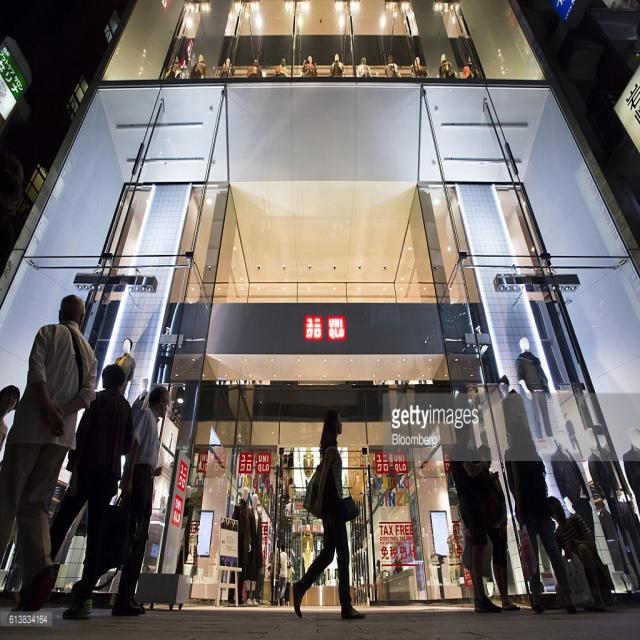body: (0, 293, 99, 622), (49, 361, 135, 623), (291, 404, 367, 621), (107, 384, 171, 618), (504, 415, 577, 615), (447, 418, 506, 614), (162, 49, 486, 82), (555, 409, 640, 510), (544, 495, 616, 613), (478, 443, 523, 612), (494, 334, 556, 441), (95, 330, 153, 420), (232, 487, 266, 607), (0, 382, 21, 454), (369, 375, 435, 388), (278, 543, 288, 607), (214, 377, 267, 389), (354, 572, 368, 604), (283, 560, 292, 608), (375, 558, 384, 602), (394, 560, 404, 574)
